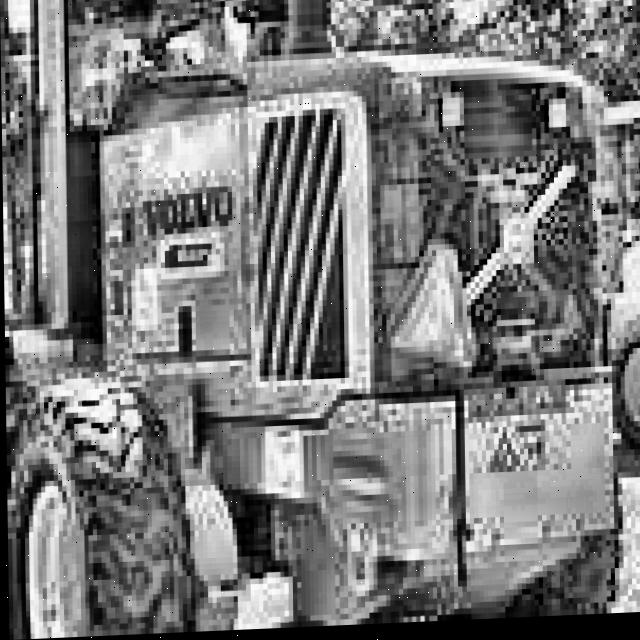buldozerpayloadergrader: (0, 0, 634, 640)
